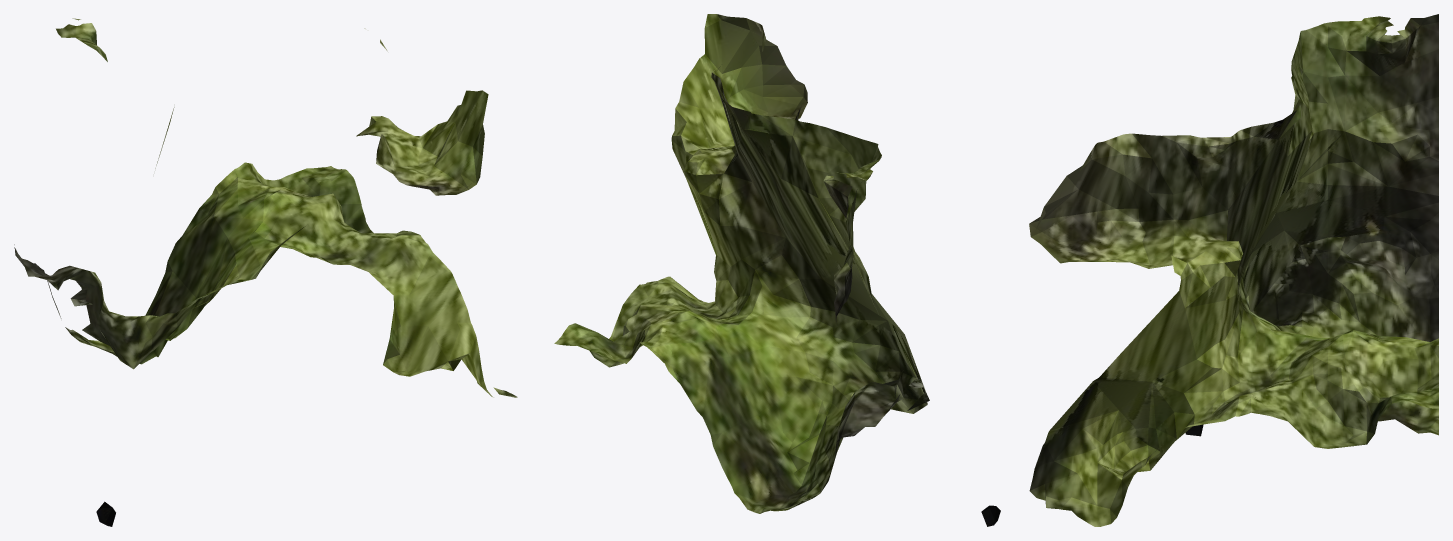
3 renders of one model, left to right at view 1: azimuth 30°, elevation 25°; view 2: azimuth 150°, elevation 25°; view 3: azimuth 270°, elevation 25°, orthographic. The views are drawn at different scales.
Size of the model in its own units: 2.55 by 2.93 by 2.47.
Materials: 3 (3 with a texture image).
